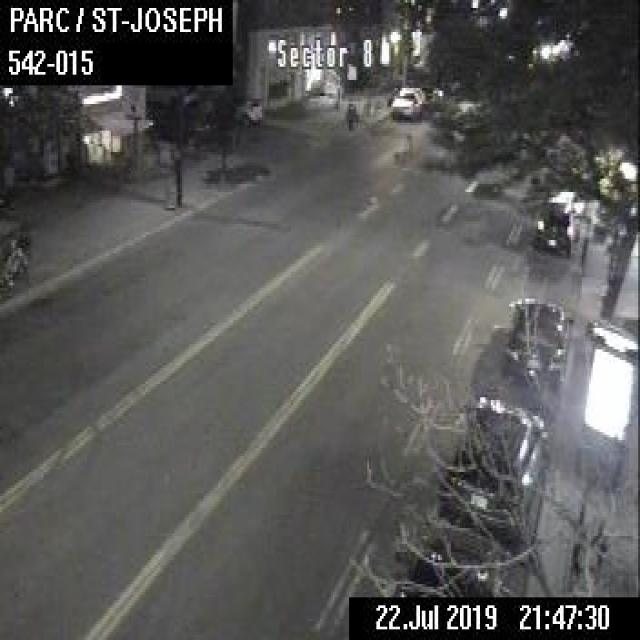vehicle: (437, 391, 546, 540), (393, 521, 508, 595), (504, 296, 567, 378), (532, 193, 576, 253), (389, 83, 424, 117), (233, 96, 260, 126)
